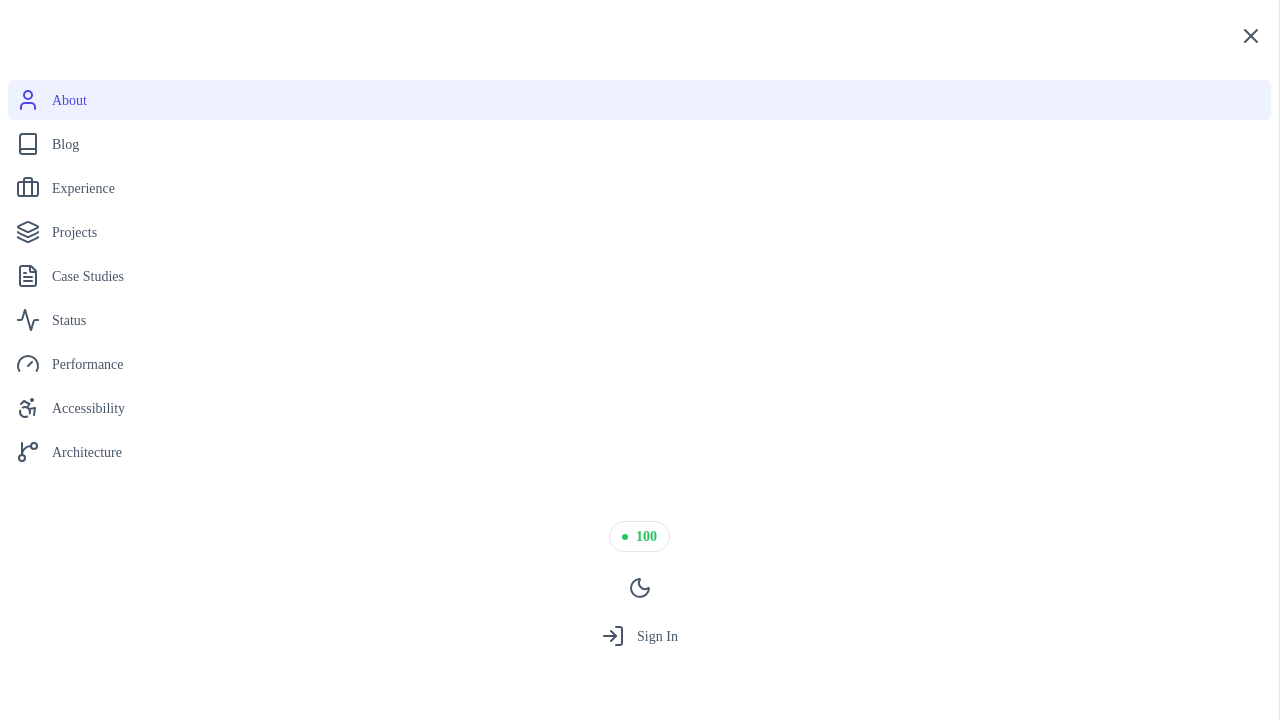
Test: NavigationRail › toggles expansion when toggle button is clicked
Step 1. Click the button named "Collapse navigation" → (1251, 36), box left=1231, top=16, right=1271, bottom=56
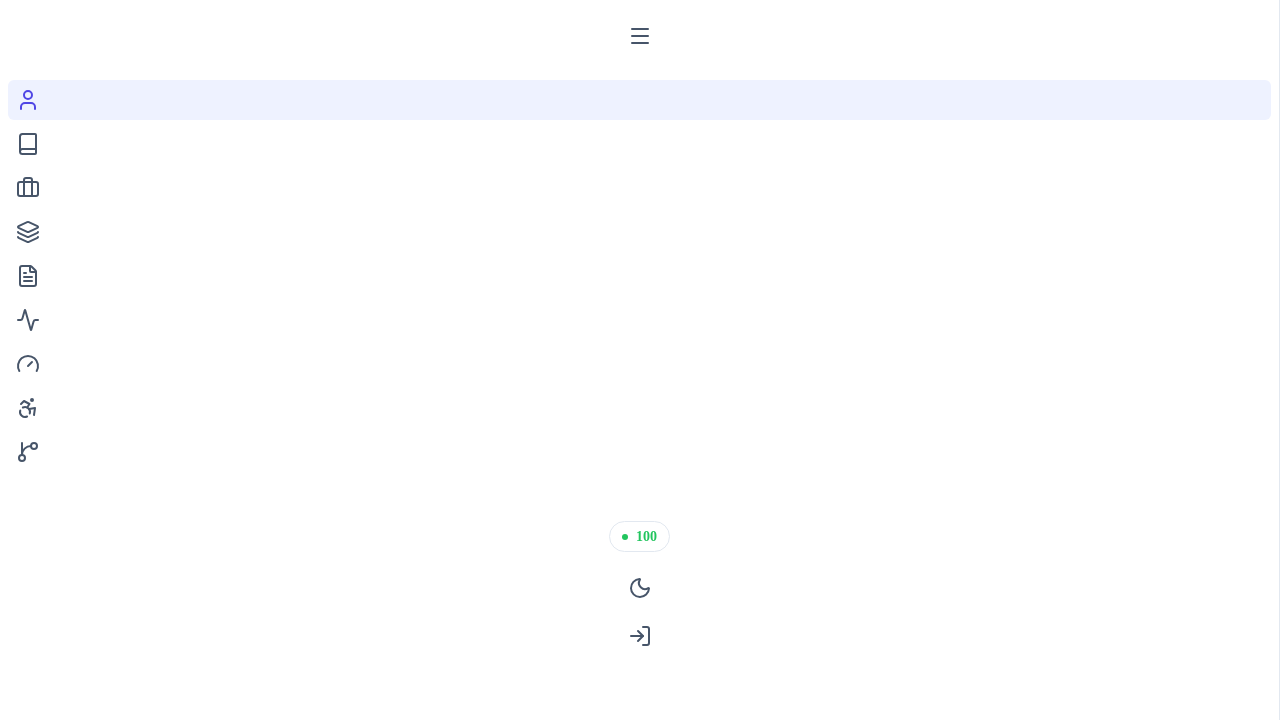
Result: the button named "Expand navigation" is shown at left=620, top=16, right=660, bottom=56
